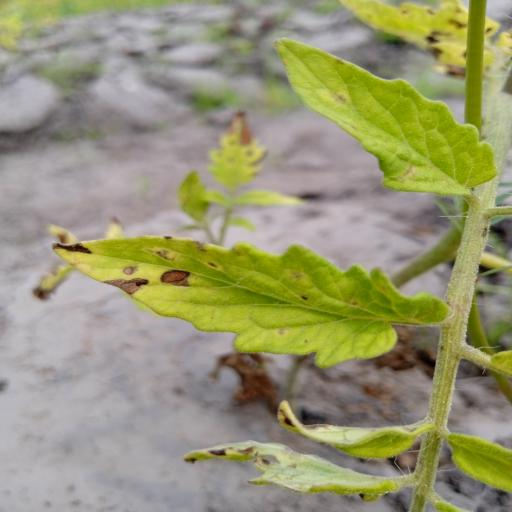Tomato_Brown_Spots: (47, 234, 455, 367), (273, 38, 500, 196)
